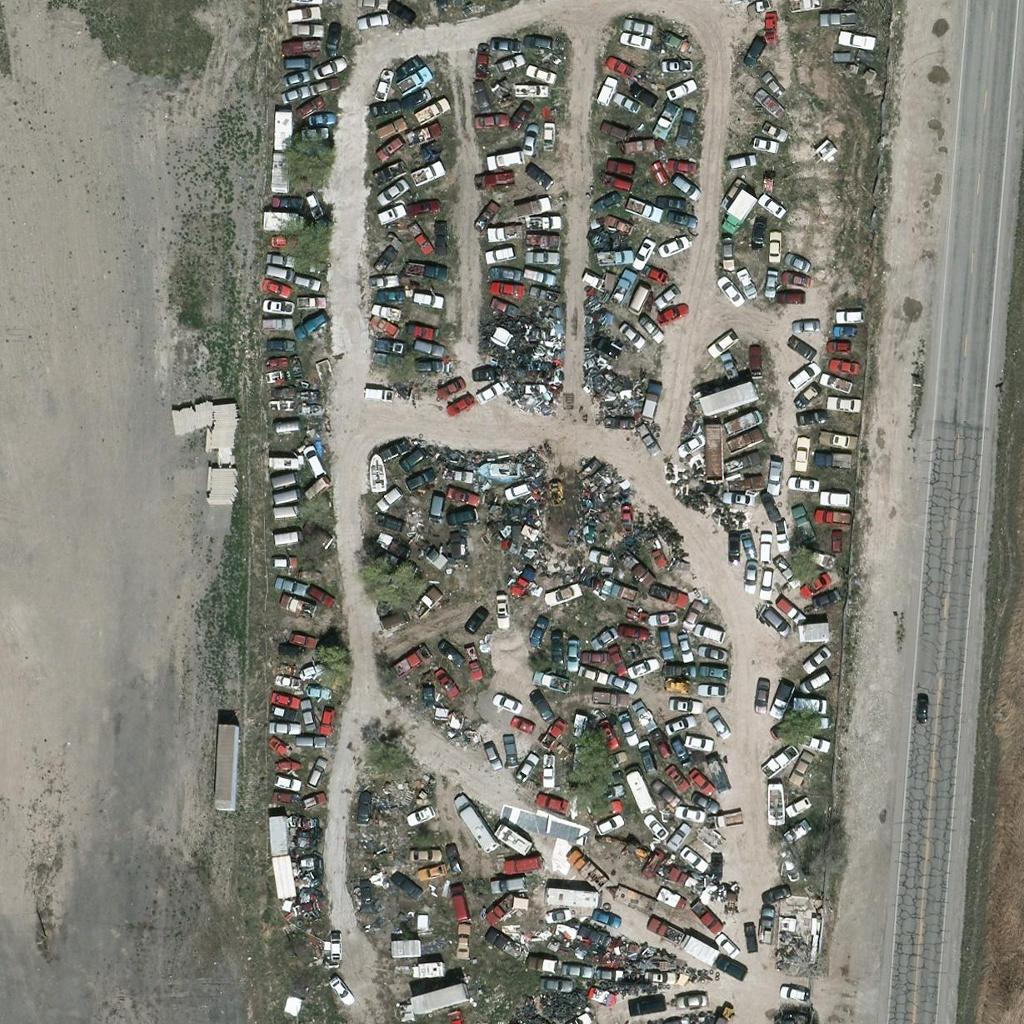car: (817, 2, 851, 36), (356, 3, 390, 37), (753, 7, 787, 41), (620, 9, 654, 43), (288, 14, 322, 48), (315, 22, 349, 56), (517, 22, 551, 56), (617, 22, 651, 56), (657, 24, 691, 58), (838, 24, 872, 58), (486, 29, 520, 63), (738, 30, 772, 64), (282, 45, 316, 79), (655, 47, 689, 81), (492, 48, 526, 82), (392, 50, 426, 84), (602, 50, 636, 84), (311, 51, 345, 85), (524, 58, 558, 92), (399, 60, 433, 94), (277, 61, 311, 95), (755, 66, 789, 100), (304, 69, 338, 103), (305, 69, 339, 103), (366, 69, 400, 103), (512, 73, 546, 107), (663, 73, 697, 107), (587, 74, 621, 108), (278, 76, 312, 110), (627, 77, 661, 111), (464, 78, 498, 112), (400, 79, 434, 113), (752, 85, 786, 119), (610, 87, 644, 121), (291, 89, 325, 123), (366, 89, 400, 123), (418, 91, 452, 125), (302, 100, 336, 134), (502, 100, 536, 134), (472, 105, 506, 139), (646, 105, 680, 139), (666, 109, 700, 143), (373, 110, 407, 144), (754, 113, 788, 147), (595, 114, 629, 148), (294, 116, 328, 150), (529, 119, 563, 153), (512, 123, 546, 157), (743, 127, 777, 161), (624, 129, 658, 163), (372, 130, 406, 164), (483, 144, 517, 178), (725, 145, 759, 179), (664, 149, 698, 183), (603, 150, 637, 184), (411, 154, 445, 188), (371, 155, 405, 189), (517, 156, 551, 190), (640, 156, 674, 190), (475, 162, 509, 196), (666, 169, 700, 203), (376, 175, 410, 209), (716, 176, 750, 210), (588, 184, 622, 218), (654, 185, 688, 219), (266, 187, 300, 221), (295, 187, 329, 221), (518, 188, 552, 222), (403, 189, 437, 223), (753, 189, 787, 223), (629, 193, 663, 227), (371, 197, 405, 231), (470, 198, 504, 232), (662, 201, 696, 235), (527, 206, 561, 240), (603, 209, 637, 243), (742, 214, 776, 248), (480, 217, 514, 251), (403, 221, 437, 255), (423, 221, 457, 255), (263, 222, 297, 256), (525, 223, 559, 257), (757, 228, 791, 262), (654, 229, 688, 263), (624, 235, 658, 269), (483, 236, 517, 270), (708, 238, 742, 272), (522, 241, 556, 275), (600, 241, 634, 275), (263, 243, 297, 277), (366, 245, 400, 279), (777, 245, 811, 279), (413, 254, 447, 288), (489, 256, 523, 290), (262, 258, 296, 292), (522, 259, 556, 293), (778, 263, 812, 297), (754, 264, 788, 298), (285, 265, 319, 299), (362, 265, 396, 299), (578, 265, 612, 299), (728, 265, 762, 299), (606, 266, 640, 300), (257, 271, 291, 305), (489, 272, 523, 306), (712, 276, 746, 310), (372, 278, 406, 312), (649, 278, 683, 312), (524, 280, 558, 314), (772, 281, 806, 315), (409, 283, 443, 317), (619, 287, 653, 321), (259, 290, 293, 324), (484, 290, 518, 324), (365, 295, 399, 329), (652, 297, 686, 331), (829, 300, 863, 334), (364, 306, 398, 340), (259, 307, 293, 341), (788, 307, 822, 341), (290, 309, 324, 343), (634, 312, 668, 346), (403, 314, 437, 348), (829, 314, 863, 348), (614, 319, 648, 353), (263, 327, 297, 361), (588, 327, 622, 361), (374, 328, 408, 362), (705, 328, 739, 362), (782, 329, 816, 363), (824, 330, 858, 364), (411, 331, 445, 365), (737, 344, 771, 378), (258, 346, 292, 380), (826, 347, 860, 381), (410, 349, 444, 383), (711, 349, 745, 383), (466, 356, 500, 390), (785, 361, 819, 395), (821, 364, 855, 398), (433, 371, 467, 405), (469, 376, 503, 410), (359, 377, 393, 411), (791, 378, 825, 412), (633, 383, 667, 417), (824, 387, 858, 421), (288, 392, 322, 426), (793, 400, 827, 434), (731, 402, 765, 436), (729, 420, 763, 454), (629, 422, 663, 456), (818, 422, 852, 456), (674, 427, 708, 461), (376, 433, 410, 467), (784, 437, 818, 471), (396, 440, 430, 474), (295, 444, 329, 478), (811, 444, 845, 478), (726, 445, 760, 479), (757, 457, 791, 491), (440, 460, 474, 494), (272, 462, 306, 496), (403, 462, 437, 496), (786, 466, 820, 500), (302, 467, 336, 501), (728, 467, 762, 501), (497, 474, 531, 508), (274, 478, 308, 512), (371, 479, 405, 513), (441, 479, 475, 513), (816, 481, 850, 515), (721, 483, 755, 517), (753, 489, 787, 523), (274, 494, 308, 528), (418, 494, 452, 528), (811, 499, 845, 533), (443, 500, 477, 534), (783, 502, 817, 536), (372, 505, 406, 539), (302, 518, 336, 552), (764, 519, 798, 553), (275, 520, 309, 554), (818, 528, 852, 562), (731, 529, 765, 563), (715, 531, 749, 565), (748, 532, 782, 566), (415, 538, 449, 572), (797, 541, 831, 575), (264, 545, 298, 579), (622, 555, 656, 589), (770, 557, 804, 591), (733, 559, 767, 593), (749, 565, 783, 599), (798, 566, 832, 600), (271, 568, 305, 602), (597, 573, 631, 607), (300, 577, 334, 611), (653, 578, 687, 612), (807, 580, 841, 614), (408, 586, 442, 620), (483, 592, 517, 626), (774, 595, 808, 629), (672, 599, 706, 633), (673, 599, 707, 633), (646, 600, 680, 634), (459, 602, 493, 636), (756, 604, 790, 638), (519, 615, 553, 649), (612, 616, 646, 650), (689, 616, 723, 650), (586, 620, 620, 654), (285, 621, 319, 655), (647, 625, 681, 659), (539, 629, 573, 663), (666, 630, 700, 664), (273, 631, 307, 665), (554, 636, 588, 670), (694, 638, 728, 672), (438, 639, 472, 673), (578, 640, 612, 674), (396, 643, 430, 677), (598, 643, 632, 677), (801, 643, 835, 677), (625, 652, 659, 686), (293, 653, 327, 687), (661, 653, 695, 687), (696, 654, 730, 688), (572, 659, 606, 693), (428, 664, 462, 698), (269, 665, 303, 699), (603, 665, 637, 699), (801, 665, 835, 699), (298, 675, 332, 709), (696, 675, 730, 709), (743, 678, 777, 712), (266, 681, 300, 715), (595, 681, 629, 715), (490, 685, 524, 719), (667, 687, 701, 721), (796, 687, 830, 721), (905, 691, 939, 725), (263, 693, 297, 727), (290, 698, 324, 732), (309, 701, 343, 735), (793, 706, 827, 740), (701, 707, 735, 741), (508, 708, 542, 742), (662, 708, 696, 742), (264, 710, 298, 744), (610, 710, 644, 744), (288, 722, 322, 756), (797, 724, 831, 758), (681, 725, 715, 759), (642, 726, 676, 760), (262, 732, 296, 766), (492, 732, 526, 766), (665, 735, 699, 769), (475, 739, 509, 773), (629, 739, 663, 773), (764, 742, 798, 776), (269, 747, 303, 781), (509, 751, 543, 785), (783, 751, 817, 785), (529, 756, 563, 790), (298, 757, 332, 791), (657, 757, 691, 791), (683, 764, 717, 798), (268, 766, 302, 800), (589, 776, 623, 810), (649, 779, 683, 813), (266, 780, 300, 814), (295, 783, 329, 817), (686, 784, 720, 818), (781, 787, 815, 821), (534, 788, 568, 822), (347, 791, 381, 825), (590, 791, 624, 825), (672, 796, 706, 830), (403, 798, 437, 832), (591, 808, 625, 842), (639, 810, 673, 844), (779, 816, 813, 850), (659, 821, 693, 855), (404, 838, 438, 872), (672, 840, 706, 874), (436, 842, 470, 876), (772, 850, 806, 884), (415, 854, 449, 888), (663, 862, 697, 896), (389, 868, 423, 902), (493, 868, 527, 902), (349, 877, 383, 911), (757, 878, 791, 912), (442, 884, 476, 918), (541, 898, 575, 932), (588, 902, 622, 936), (691, 902, 725, 936), (748, 906, 782, 940), (577, 921, 611, 955), (732, 922, 766, 956), (481, 923, 515, 957), (445, 924, 479, 958), (318, 929, 352, 963), (710, 929, 744, 963), (522, 946, 556, 980), (558, 952, 592, 986), (714, 953, 748, 987), (588, 957, 622, 991), (588, 958, 622, 992), (639, 959, 673, 993), (639, 960, 673, 994), (536, 968, 570, 1002), (322, 972, 356, 1006), (778, 977, 812, 1011), (673, 985, 707, 1019), (627, 990, 661, 1024), (282, 0, 316, 31), (386, 0, 420, 29), (742, 0, 776, 21), (789, 0, 823, 19), (353, 0, 387, 18)
